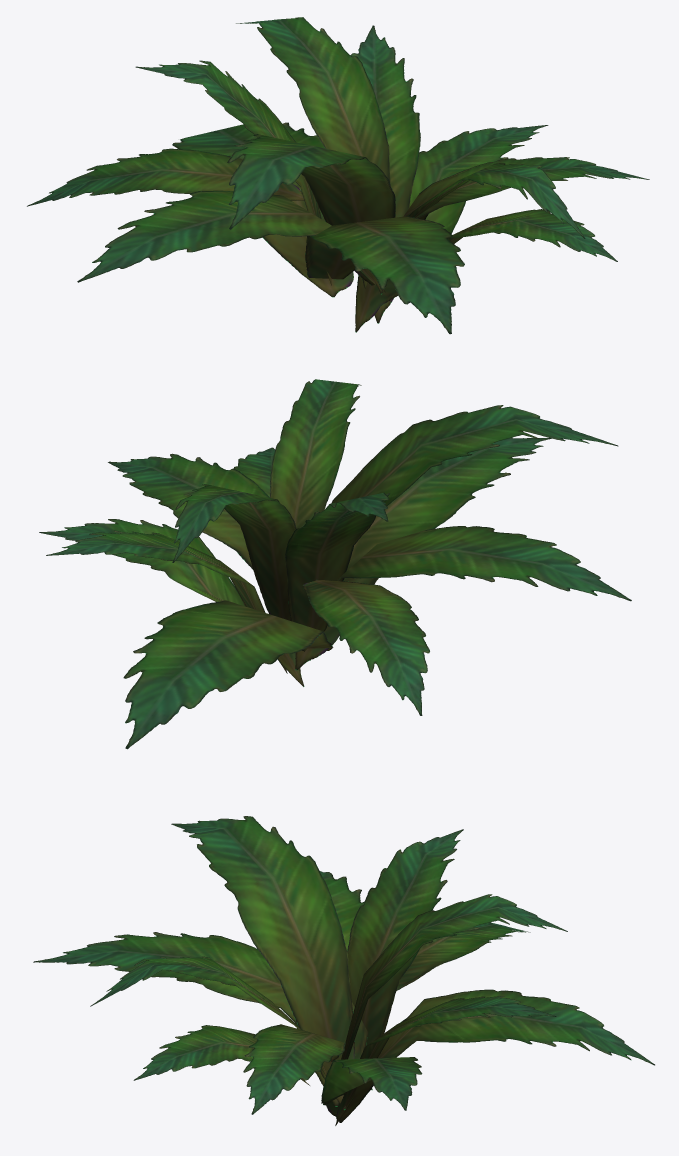
Rendered from Battle01_Cao_11.FBX.
The picture shows the model from 3 angles, top to bottom: view 1: azimuth 30°, elevation 25°; view 2: azimuth 150°, elevation 25°; view 3: azimuth 270°, elevation 25°; orthographic projection. The views are drawn at different scales.
Parts seen in each view (by area): view 1: Battle01_Cao_11; view 2: Battle01_Cao_11; view 3: Battle01_Cao_11.
Boxes of the visible parts, x1=… form: Battle01_Cao_11: x1=27, y1=17, x2=649, y2=334; Battle01_Cao_11: x1=39, y1=379, x2=631, y2=749; Battle01_Cao_11: x1=33, y1=816, x2=654, y2=1125.
Size of the model in its own units: 1.91 by 0.83 by 2.08.
